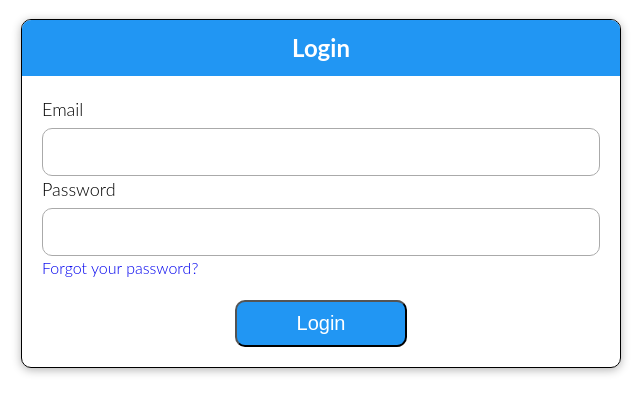
Test: <LoginPage /> › it should not log the user in correctly
Type "jon@jon.com" into the field labelled "Email" at (321, 152), box [42, 128, 600, 176]
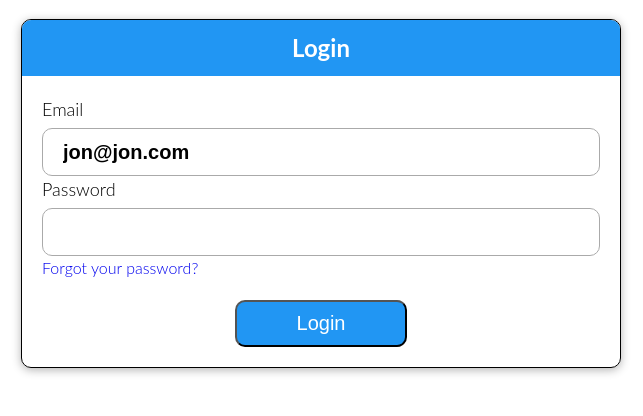
Type "password123" into the field labelled "Password" at (321, 232), box [42, 208, 600, 256]
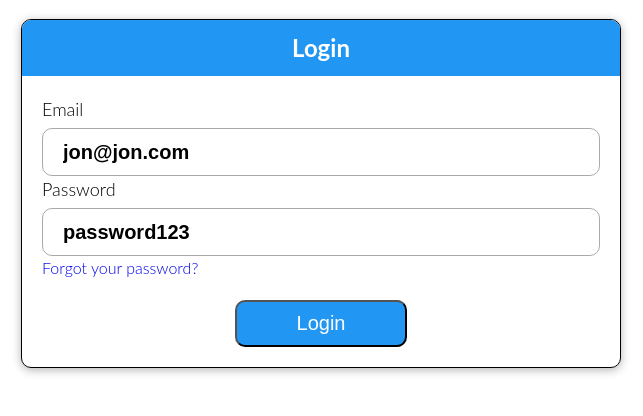
Submit the form with test id "login-form"
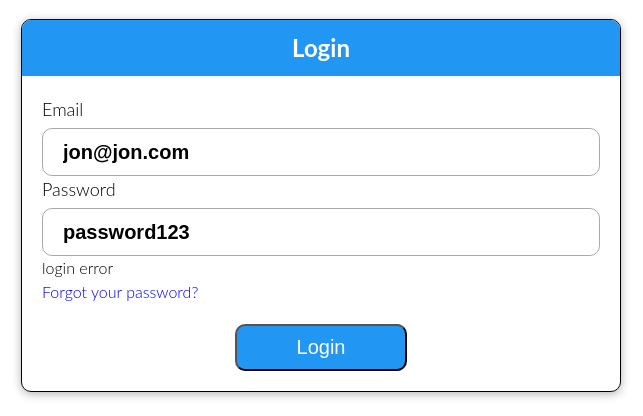
Expected: the text with test id "login-error" reads "login error", [42, 258, 113, 277]
